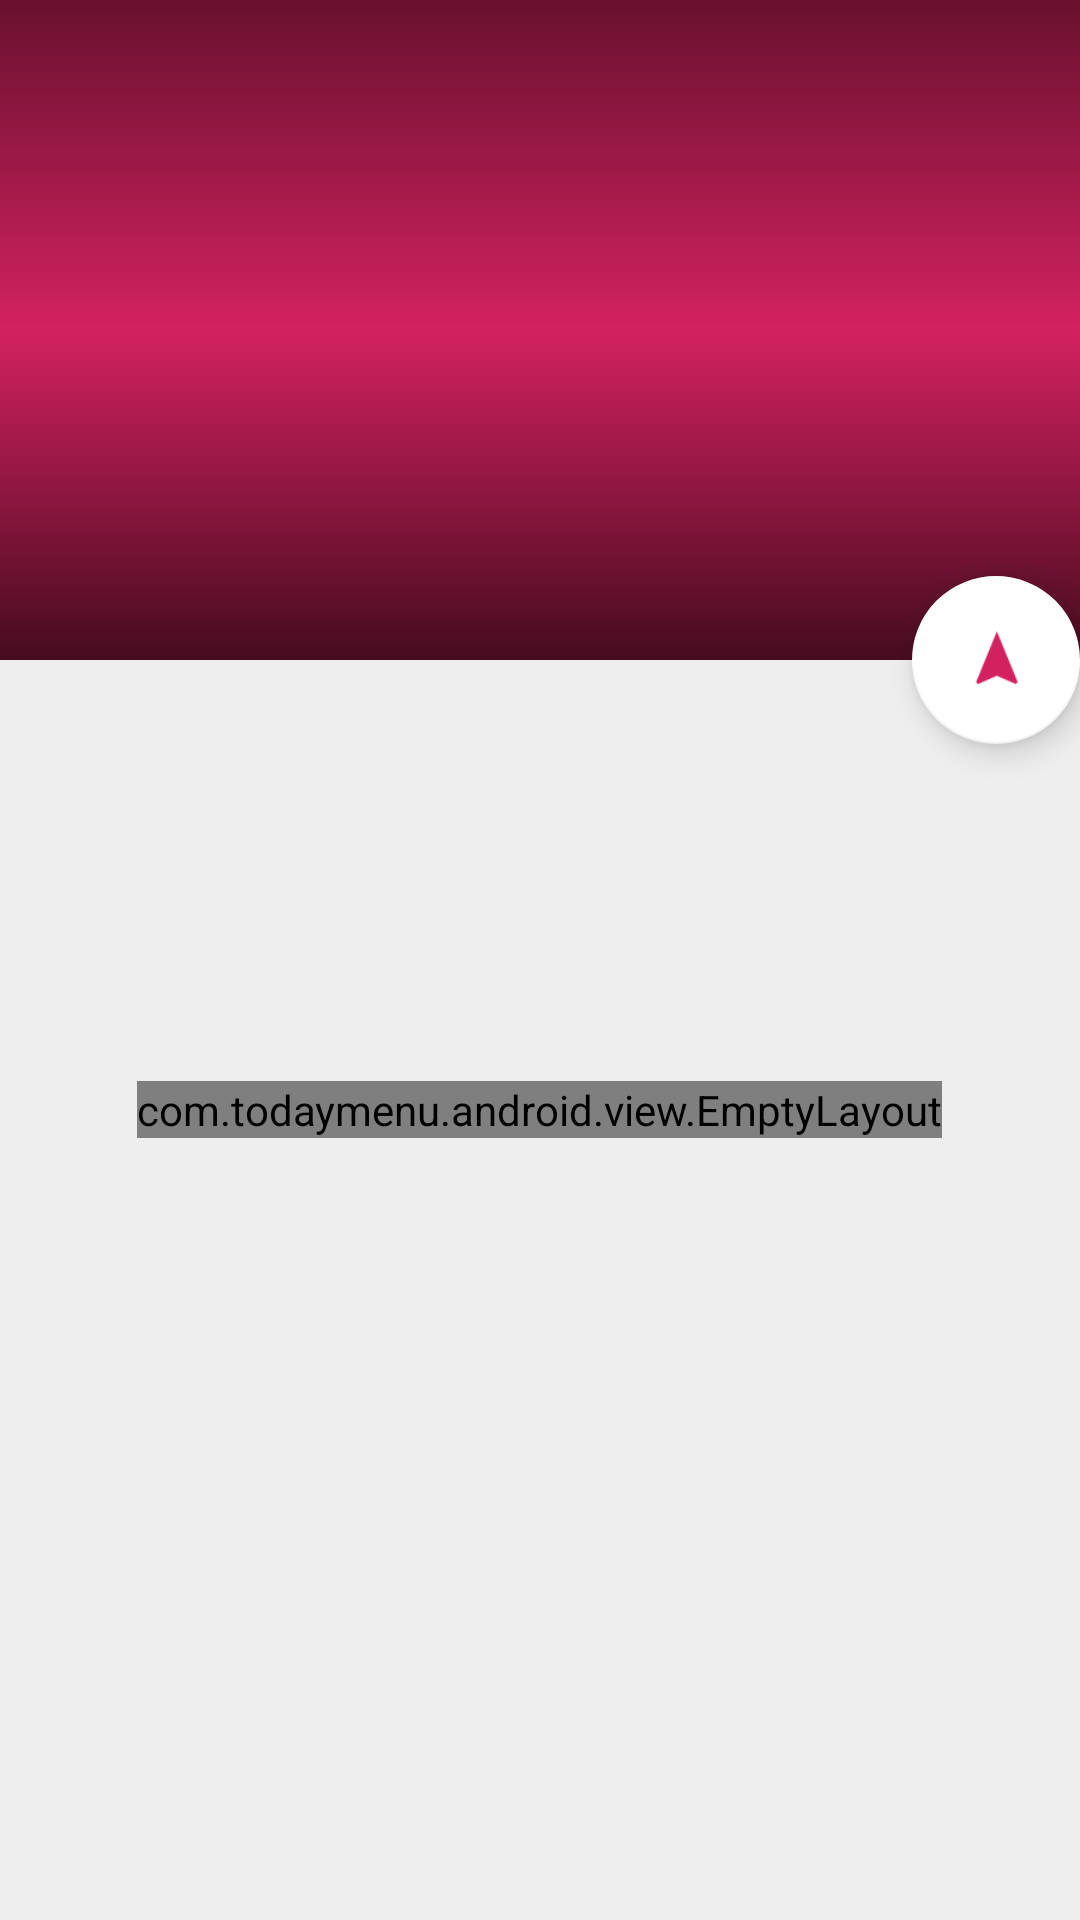

Screen size 1080px×1920px. Icon name, then its center in pixels as point (x, y):
directions: point (996, 660)
